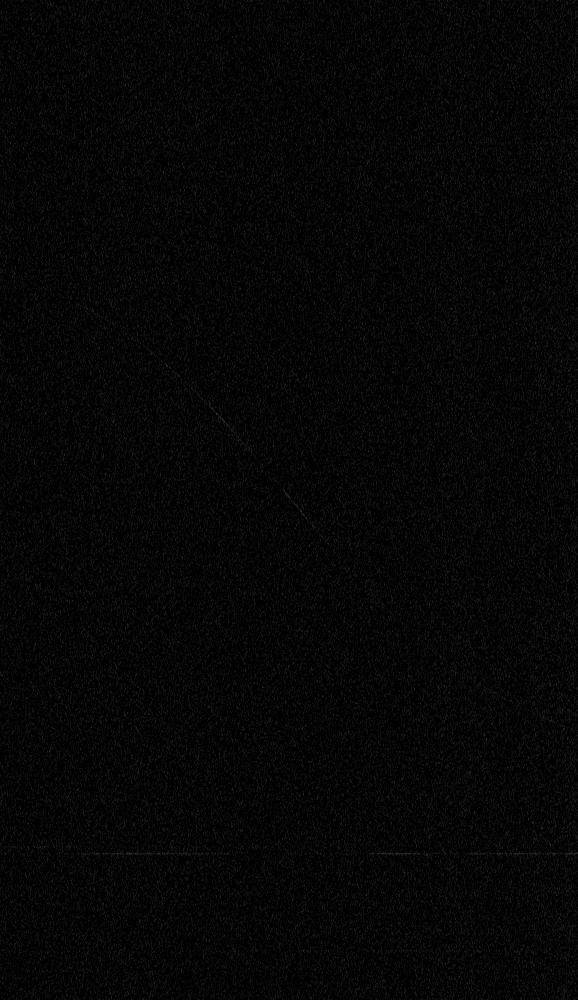signal: (0, 0, 577, 999)
